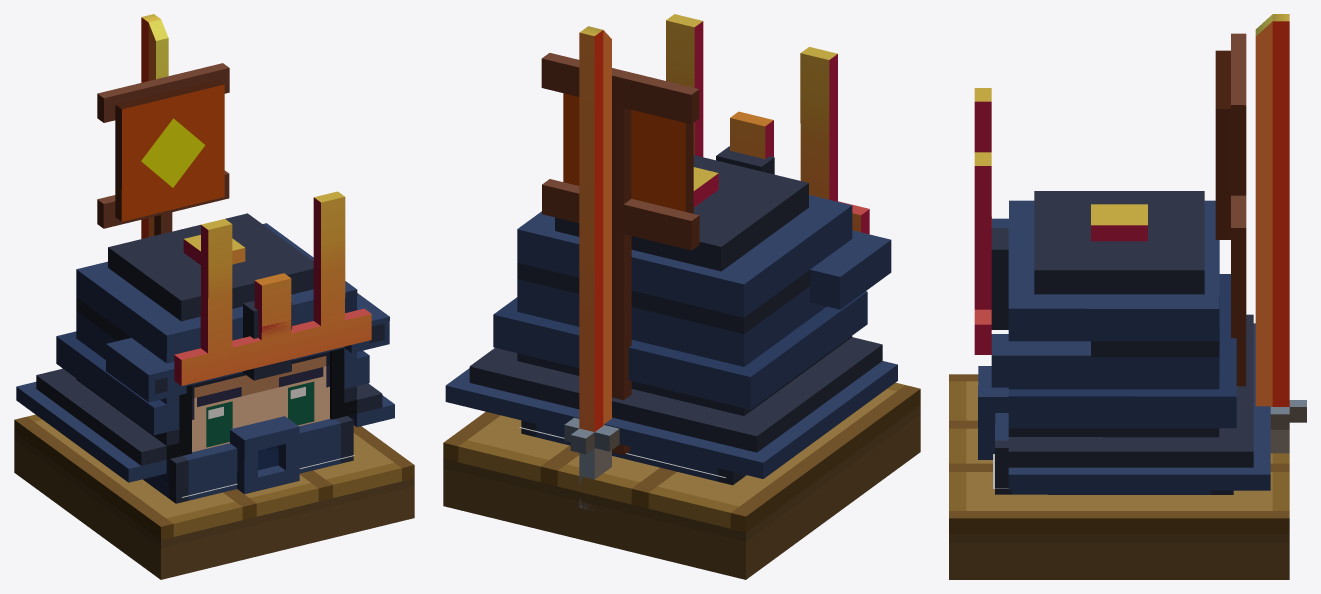
Rendered from Tower_Samurai_LVL6.fbx.
3 views of the same model, side by side, from view 1: azimuth 30°, elevation 25°; view 2: azimuth 150°, elevation 25°; view 3: azimuth 270°, elevation 25° (orthographic). The views are drawn at different scales.
Visible parts, largest first — view 1: hat, Base, Banner, U, Mask, Body, Weapon; view 2: hat, Base, Banner, Weapon, U, Mask; view 3: hat, Base, Weapon, Banner, U, Mask.
Part boxes in pixels (x1,y1,x2,y2): hat: (16,213,394,482); Base: (14,414,414,579); Banner: (97,63,229,235); U: (174,191,371,385); Mask: (143,416,353,503); Body: (192,351,329,452); Weapon: (141,14,168,238); hat: (445,146,897,478); Base: (443,382,920,579); Banner: (541,53,699,455); Weapon: (564,26,619,510); U: (666,14,869,234); Mask: (521,420,746,485); hat: (991,191,1270,490); Base: (949,374,1289,579); Weapon: (1255,14,1306,453); Banner: (1215,33,1246,386); U: (974,88,991,354); Mask: (978,366,1233,494).
Bounding box in the file's own units: 105 × 160 × 105.
